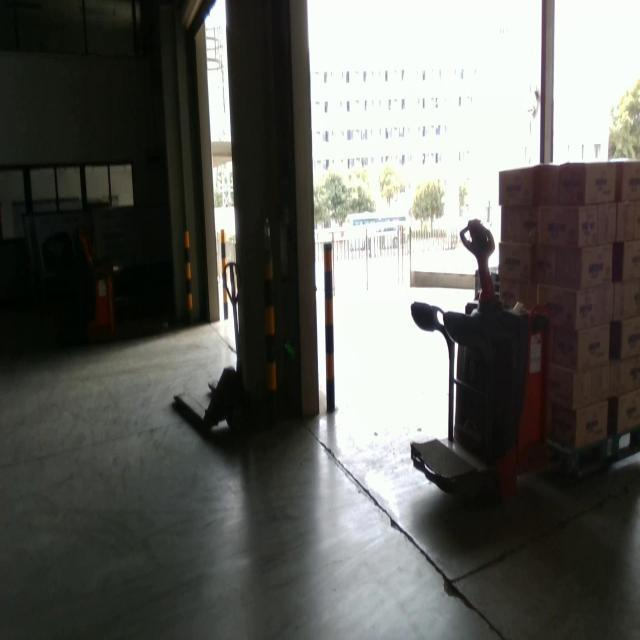forklift: (408, 218, 569, 512), (172, 264, 258, 438), (80, 236, 170, 335)
